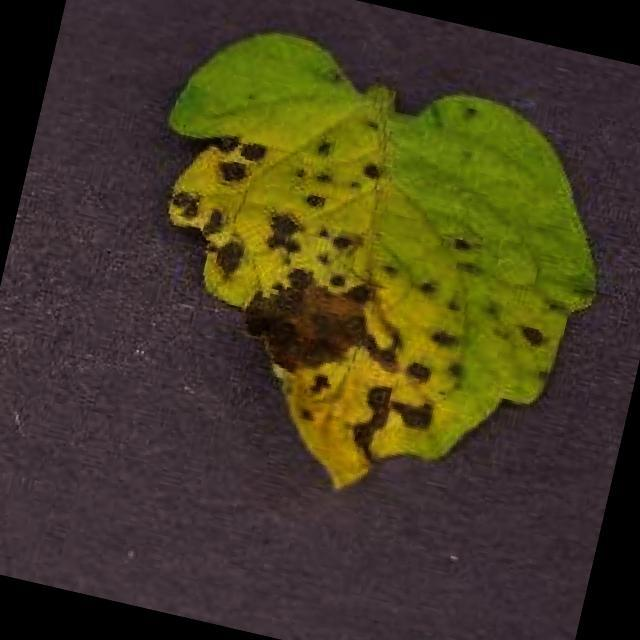Tomato Septoria spot leaf: (93, 13, 638, 540)
